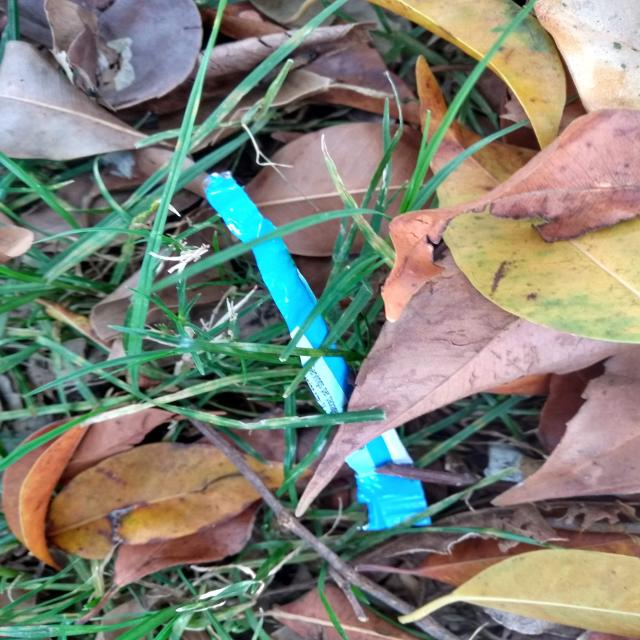litter: (207, 171, 433, 531)
